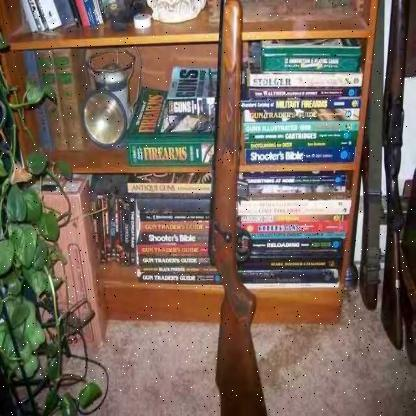rifle: (176, 0, 282, 415)
